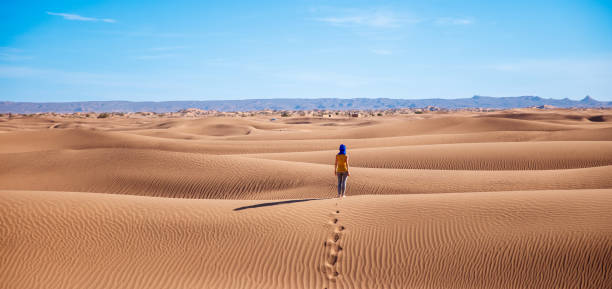human_foot_print: (324, 209, 344, 282), (334, 225, 344, 232), (333, 233, 339, 242), (332, 218, 337, 223)
